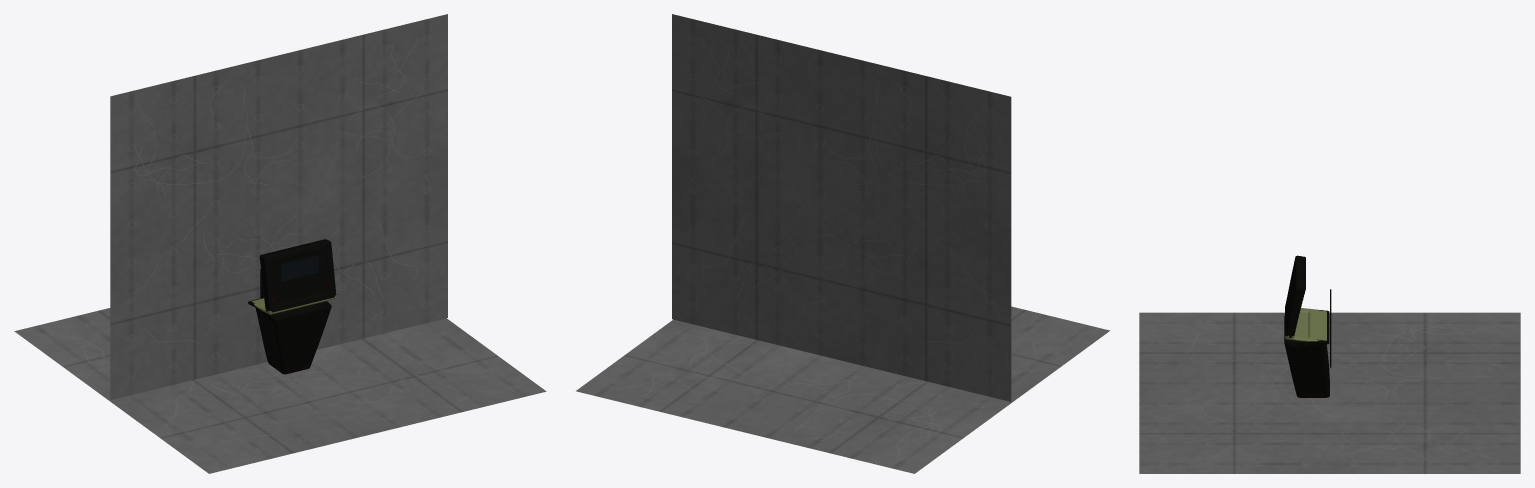
Rendered from terminal.glb.
3 views of the same model, side by side, from view 1: azimuth 30°, elevation 25°; view 2: azimuth 150°, elevation 25°; view 3: azimuth 270°, elevation 25° (orthographic). The views are drawn at different scales.
Visible parts, largest first — view 1: PresentationWall, PresentationFloor, Terminal_GeneratedFit, DisplayPlane; view 2: PresentationWall, PresentationFloor; view 3: PresentationFloor, Terminal_GeneratedFit.
Boxes of the visible parts, x1,y1,x2,y2 form: PresentationWall: (110,14,447,400); PresentationFloor: (14,308,546,473); Terminal_GeneratedFit: (248,239,336,374); DisplayPlane: (282,255,318,281); PresentationWall: (672,14,1011,401); PresentationFloor: (576,306,1109,473); PresentationFloor: (1139,312,1520,473); Terminal_GeneratedFit: (1284,255,1329,397).
Size of what is drawn, in the model's own units: 5 by 4.32 by 5.
4 materials, 2 textured.
